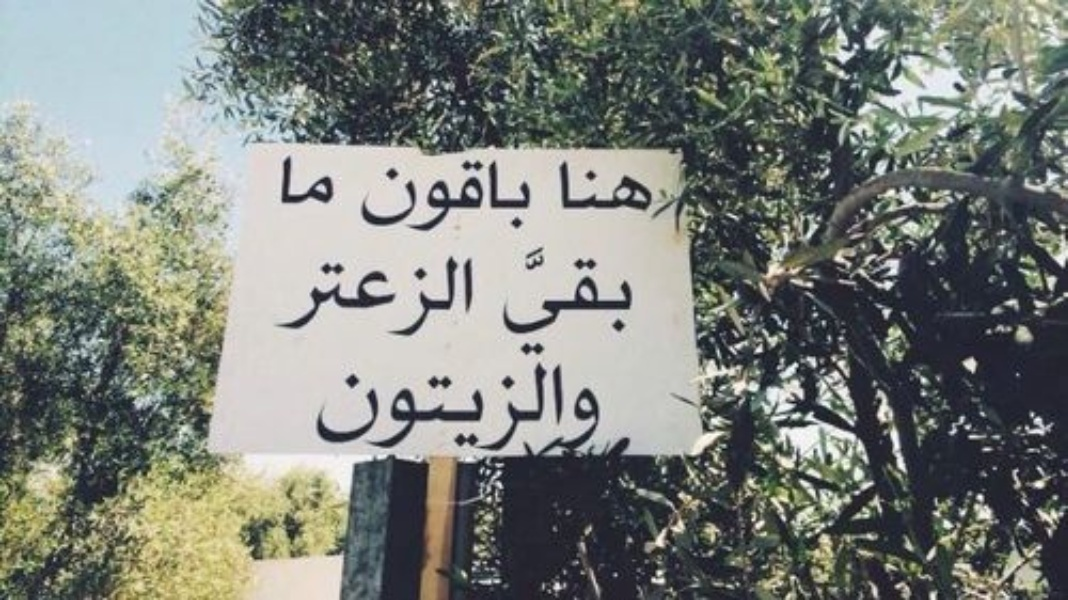text: (513, 246, 528, 361), (529, 246, 544, 361), (545, 246, 560, 361), (561, 246, 576, 361), (577, 246, 592, 361), (593, 246, 608, 361), (609, 246, 624, 361), (321, 344, 336, 453), (337, 344, 352, 453), (353, 344, 368, 453), (369, 344, 384, 453), (385, 344, 400, 453), (401, 344, 416, 453), (417, 344, 432, 453), (433, 344, 448, 453), (449, 344, 464, 453), (465, 344, 480, 453), (481, 344, 496, 453), (497, 344, 512, 453), (513, 344, 528, 453), (529, 344, 544, 453), (545, 344, 560, 453), (561, 344, 576, 453), (577, 344, 592, 453), (289, 252, 304, 342), (305, 252, 320, 342), (321, 252, 336, 342), (337, 252, 352, 342), (353, 252, 368, 342), (369, 252, 384, 342), (385, 252, 400, 342), (401, 252, 416, 342), (417, 252, 432, 342), (433, 252, 448, 342), (449, 252, 464, 342), (369, 156, 384, 235), (385, 156, 400, 235), (401, 156, 416, 235), (417, 156, 432, 235), (433, 156, 448, 235), (449, 156, 464, 235), (465, 156, 480, 235), (481, 156, 496, 235), (497, 156, 512, 235), (513, 156, 528, 235), (502, 246, 512, 361), (625, 246, 635, 361), (593, 344, 603, 453), (465, 252, 477, 342), (312, 344, 320, 453), (561, 159, 576, 214), (577, 159, 592, 214), (593, 159, 608, 214), (609, 159, 624, 214), (625, 159, 640, 214), (289, 154, 304, 205), (305, 154, 320, 205), (641, 159, 654, 214), (359, 156, 368, 235), (321, 154, 334, 205), (280, 154, 288, 205), (529, 156, 532, 235), (558, 159, 560, 214)
